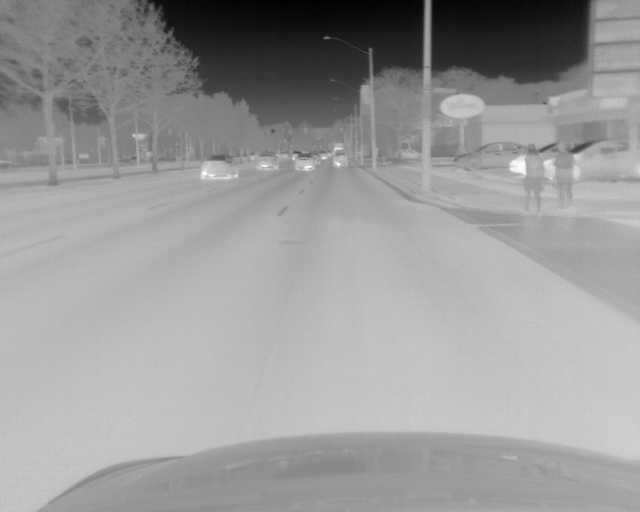car: (542, 140, 640, 180), (511, 141, 577, 179), (453, 141, 527, 170), (199, 154, 236, 181), (254, 151, 278, 170), (294, 154, 316, 173), (329, 150, 350, 168), (398, 148, 422, 160)
people: (551, 139, 576, 207), (523, 142, 546, 215)
